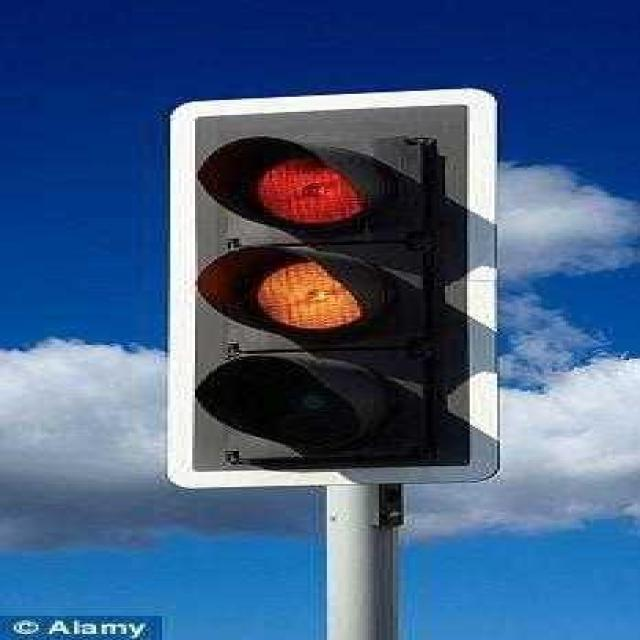Traffic Light -Off-: (188, 351, 415, 466)
Traffic Light -Red-: (180, 121, 477, 233)
Traffic Light -Yellow-: (187, 120, 415, 512), (188, 242, 433, 343)
